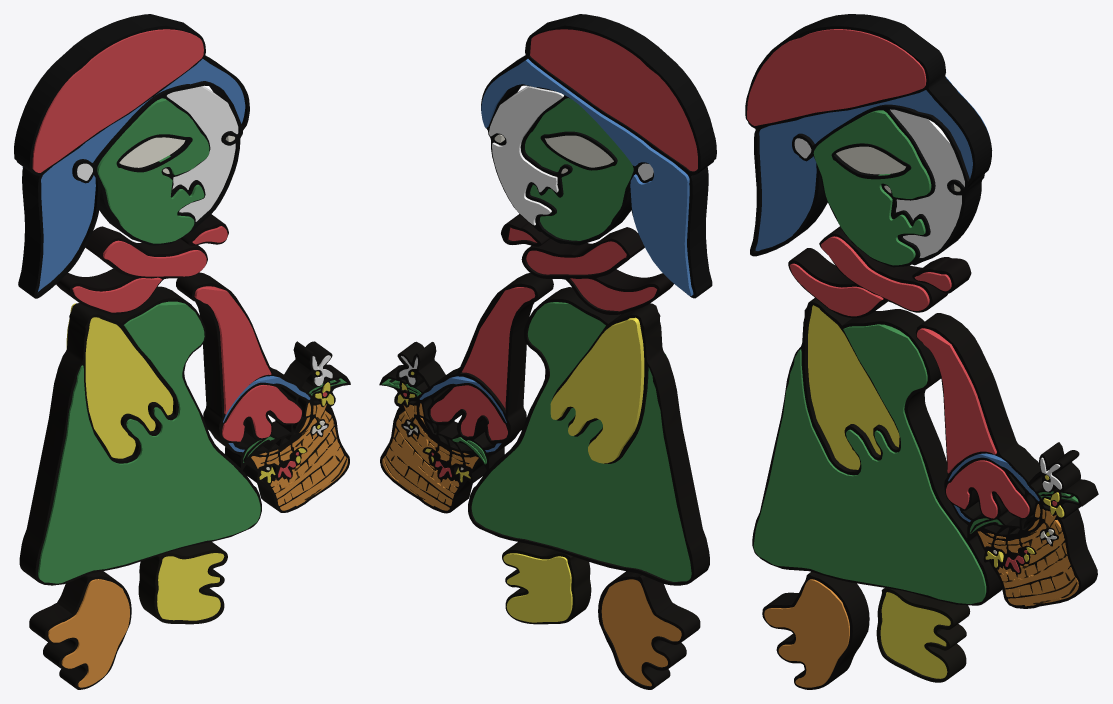
Rendered from flora.glb.
3 renders of one model, left to right at view 1: azimuth 30°, elevation 25°; view 2: azimuth 150°, elevation 25°; view 3: azimuth 330°, elevation 25°, orthographic. The views are drawn at different scales.
Visible parts, largest first — view 1: Shape 7, Shape 13, Shape 107, Shape 108, Shape 111, Shape 8, Shape 109, Shape 10, Shape 2, Shape 14, Shape 12, Shape 9 (+10 smaller); view 2: Shape 7, Shape 13, Shape 107, Shape 108, Shape 109, Shape 8, Shape 111, Shape 2, Shape 10, Shape 12, Shape 0, Shape 9 (+10 smaller); view 3: Shape 7, Shape 13, Shape 107, Shape 108, Shape 111, Shape 109, Shape 8, Shape 10, Shape 2, Shape 14, Shape 12, Shape 0 (+11 smaller).
Part boxes in pixels (<box>): Shape 7: <box>38,301,260,583</box>; Shape 13: <box>19,272,350,585</box>; Shape 107: <box>14,14,249,298</box>; Shape 108: <box>32,29,203,172</box>; Shape 111: <box>97,98,209,243</box>; Shape 8: <box>66,303,173,458</box>; Shape 109: <box>22,59,245,291</box>; Shape 10: <box>48,579,129,687</box>; Shape 2: <box>167,86,238,221</box>; Shape 14: <box>194,286,271,414</box>; Shape 12: <box>157,553,224,620</box>; Shape 9: <box>29,571,131,689</box>; Shape 7: <box>471,302,691,581</box>; Shape 13: <box>379,273,709,585</box>; Shape 107: <box>481,14,716,298</box>; Shape 108: <box>530,29,697,171</box>; Shape 109: <box>481,59,693,296</box>; Shape 8: <box>550,317,644,463</box>; Shape 111: <box>525,98,633,240</box>; Shape 2: <box>489,86,563,225</box>; Shape 10: <box>601,579,681,686</box>; Shape 12: <box>503,553,572,622</box>; Shape 0: <box>521,227,673,314</box>; Shape 9: <box>598,571,700,689</box>; Shape 7: <box>753,324,986,604</box>; Shape 13: <box>752,298,1098,608</box>; Shape 107: <box>745,14,992,267</box>; Shape 108: <box>747,29,926,125</box>; Shape 111: <box>813,110,931,265</box>; Shape 109: <box>755,77,988,250</box>; Shape 8: <box>808,305,899,469</box>; Shape 10: <box>764,579,849,687</box>; Shape 2: <box>890,109,964,257</box>; Shape 14: <box>917,328,996,473</box>; Shape 12: <box>880,592,950,678</box>; Shape 0: <box>788,226,948,317</box>.
Bounding box in the file's own units: 1.07 × 2.05 × 0.1258.
